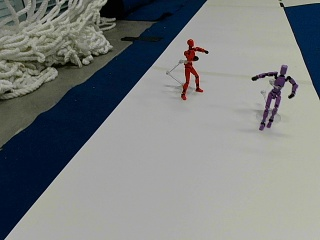pedestrian: (251, 65, 298, 130), (182, 40, 209, 100)
